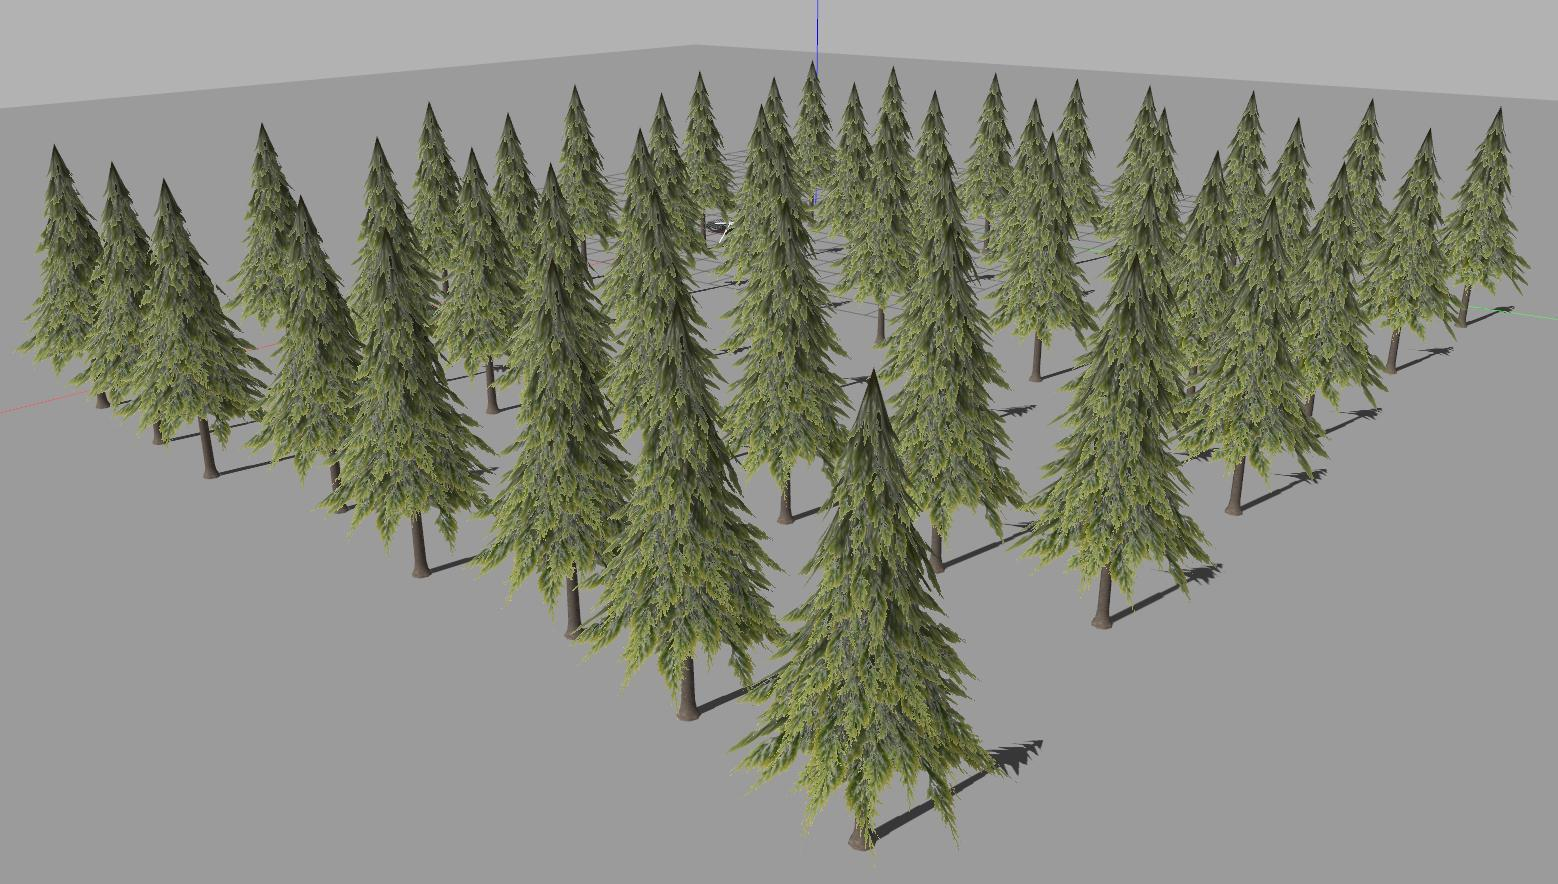tree_gazebo: (739, 375, 995, 849), (1025, 94, 1208, 630), (1180, 201, 1324, 513), (122, 183, 268, 476), (249, 198, 360, 486), (992, 104, 1096, 379), (436, 149, 520, 412), (1366, 131, 1454, 375), (840, 70, 916, 346), (1442, 109, 1530, 327), (18, 146, 101, 372), (76, 165, 152, 405)
